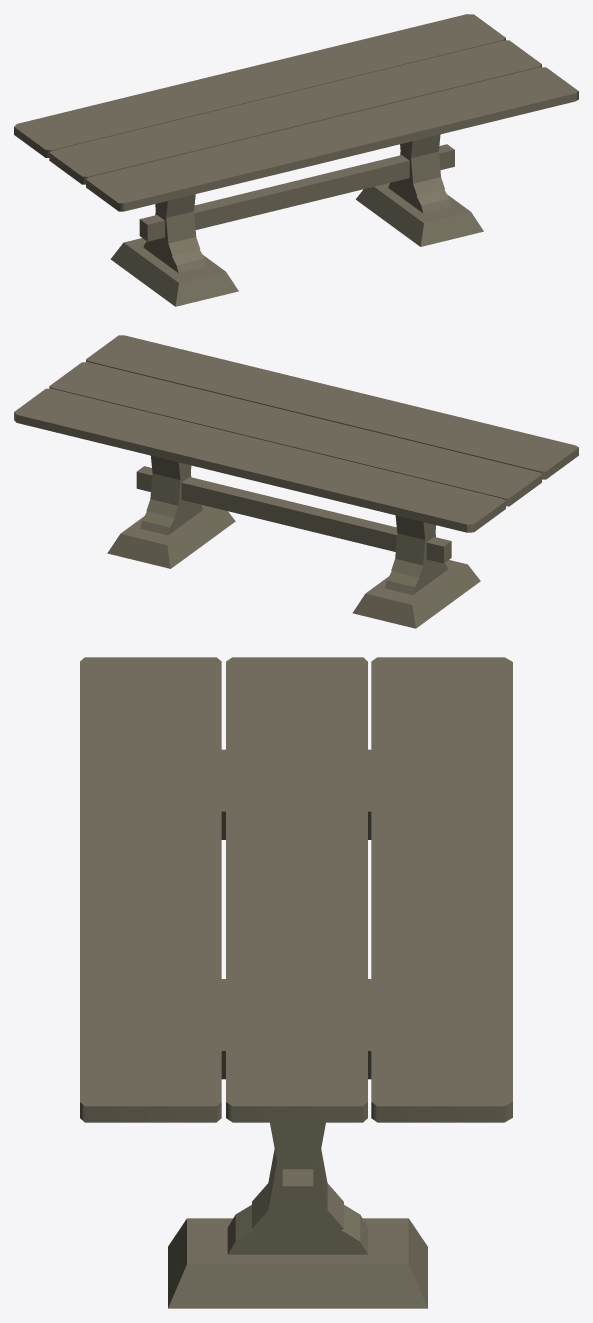
File: 3Dobject_table.fbx
The picture shows the model from 3 angles, top to bottom: view 1: azimuth 30°, elevation 25°; view 2: azimuth 150°, elevation 25°; view 3: azimuth 270°, elevation 25°; orthographic projection. The views are drawn at different scales.
Visible parts, largest first — view 1: table; view 2: table; view 3: table.
Boxes of the visible parts, box(x1,y1,x2,y2) form: table: box(14, 14, 578, 306); table: box(14, 335, 578, 628); table: box(80, 657, 512, 1308).
Bounding box in the file's own units: 2.63 × 0.7501 × 1.07.
